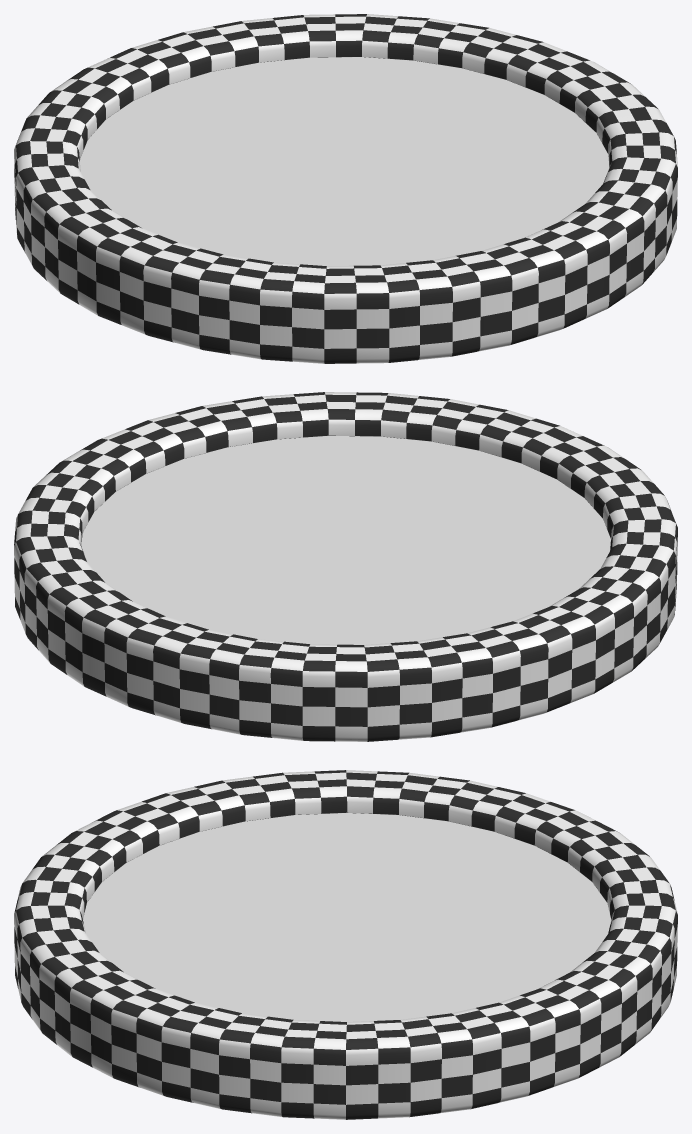
The model's file is finishLine.fbx.
3 views of the same model, one above another, from view 1: azimuth 30°, elevation 25°; view 2: azimuth 150°, elevation 25°; view 3: azimuth 270°, elevation 25° (orthographic).
Visible parts, largest first — view 1: FinishLine, FinishLinePortal; view 2: FinishLine, FinishLinePortal; view 3: FinishLine, FinishLinePortal.
Boxes of the visible parts, x1,y1,x2,y2 form: FinishLine: [14, 14, 677, 363]; FinishLinePortal: [80, 57, 609, 265]; FinishLine: [14, 392, 677, 741]; FinishLinePortal: [81, 436, 610, 644]; FinishLine: [14, 770, 677, 1119]; FinishLinePortal: [83, 813, 611, 1021].
Bounding box in the file's own units: 39.98 × 5.23 × 39.98.
